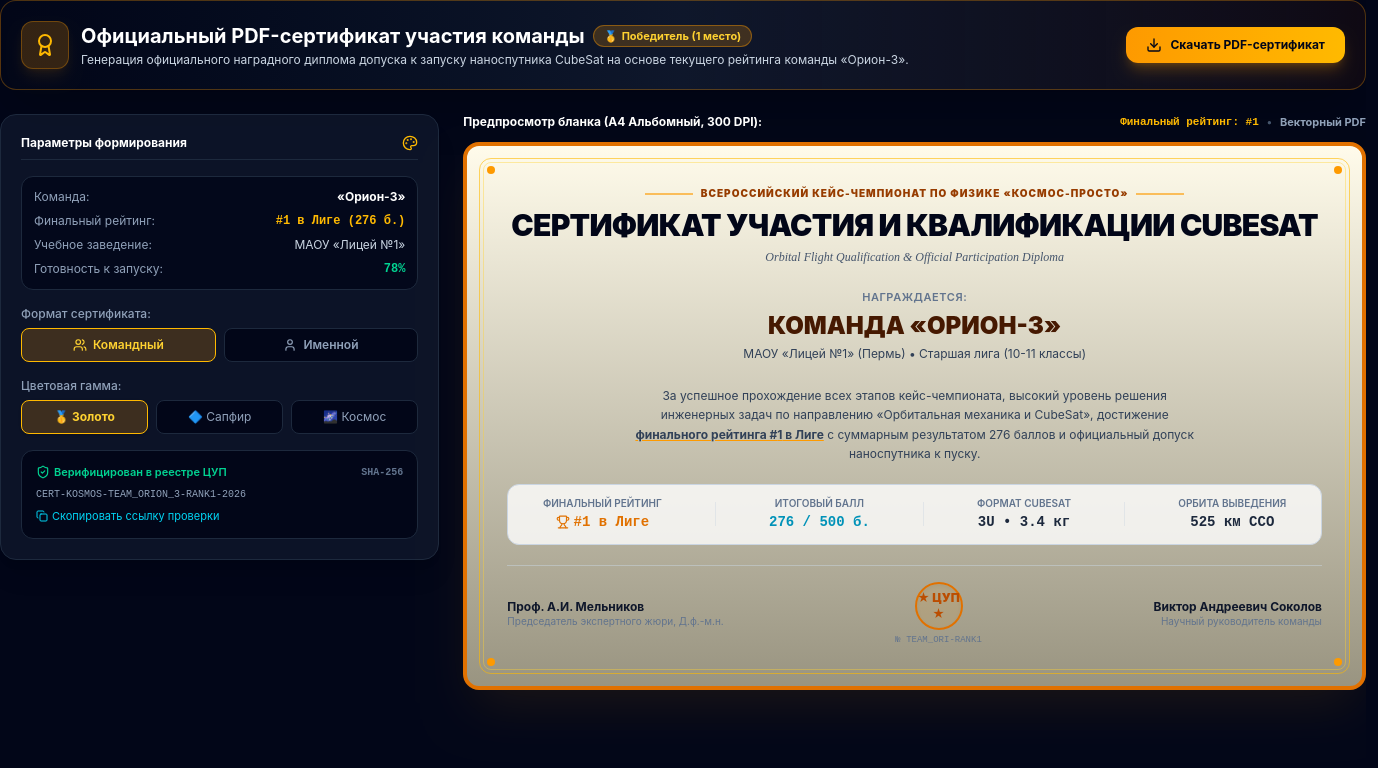
it: TeamParticipationCertificate: Генерация PDF-сертификата участия команды › позволяет переключать формат сертификата между командным и именным
Click the button "Именной": (321, 345) x1=224 y1=328 x2=418 y2=362
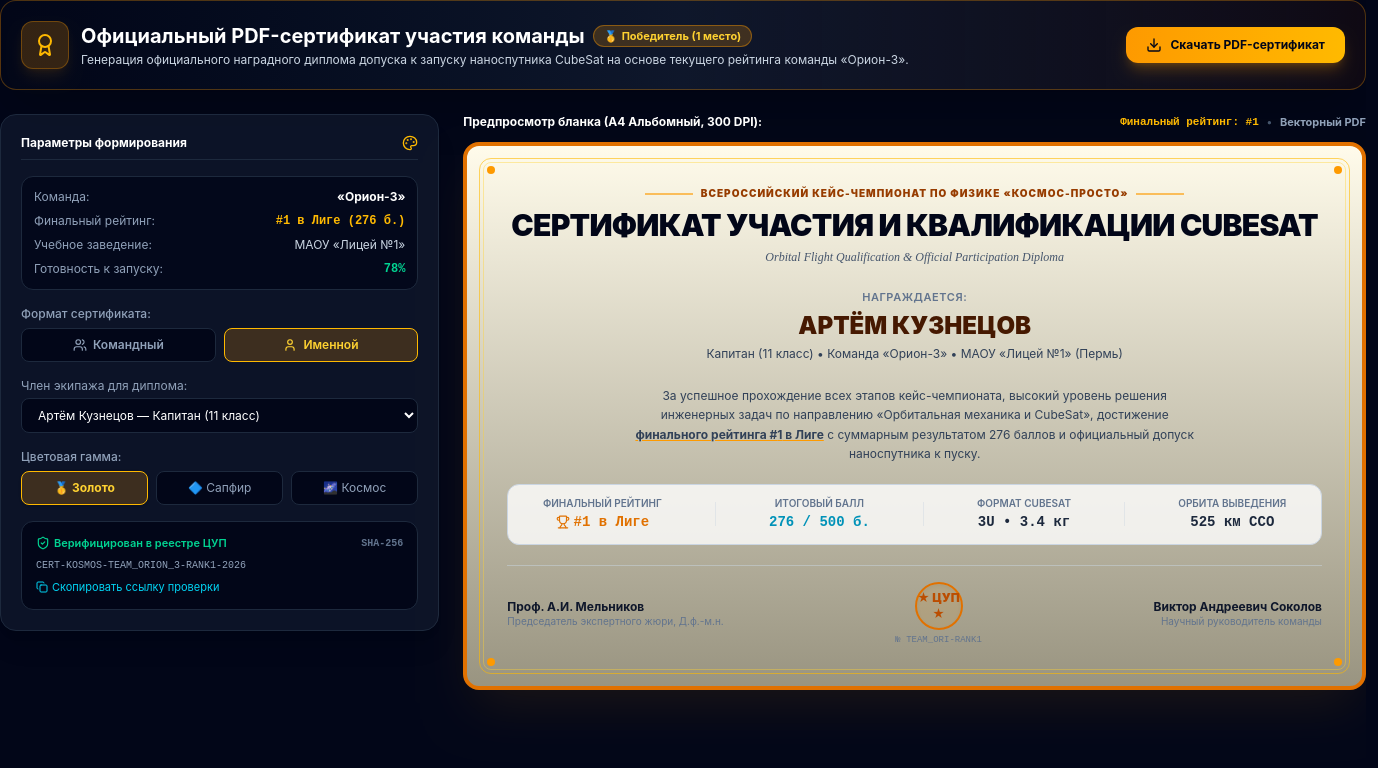
Expected: the dropdown labelled "Член экипажа для диплома:" is shown, x1=21 y1=398 x2=418 y2=433
Click the button "Командный": (118, 345) x1=21 y1=328 x2=216 y2=362
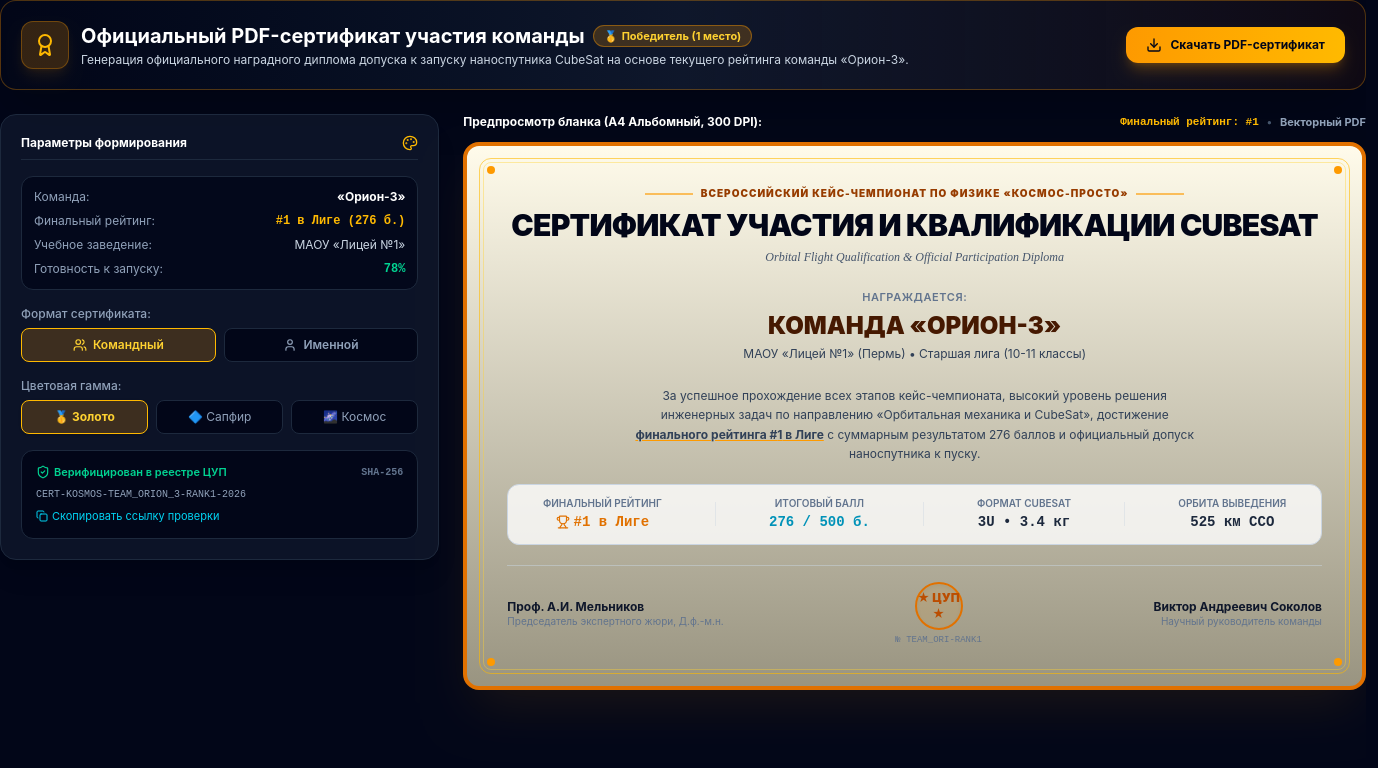
Expected: the label labelled "Член экипажа для диплома:" is gone
